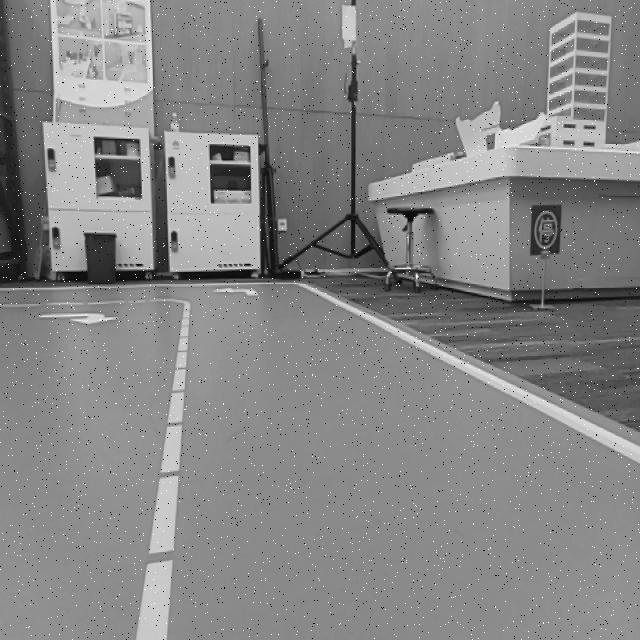left_lane: (138, 307, 191, 640)
right_lane: (299, 284, 640, 462)
